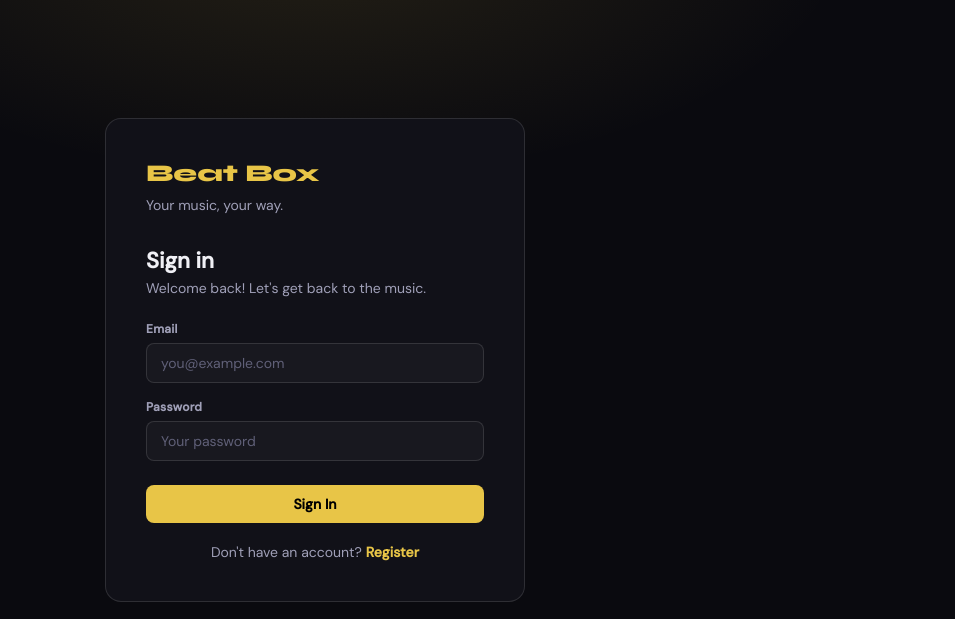
Test: Authentication › shows error for wrong credentials
The image size is (955, 619).
Type "wrong@email.com" into the field with placeholder "you@example.com" at (315, 363), box [146,343,484,383]
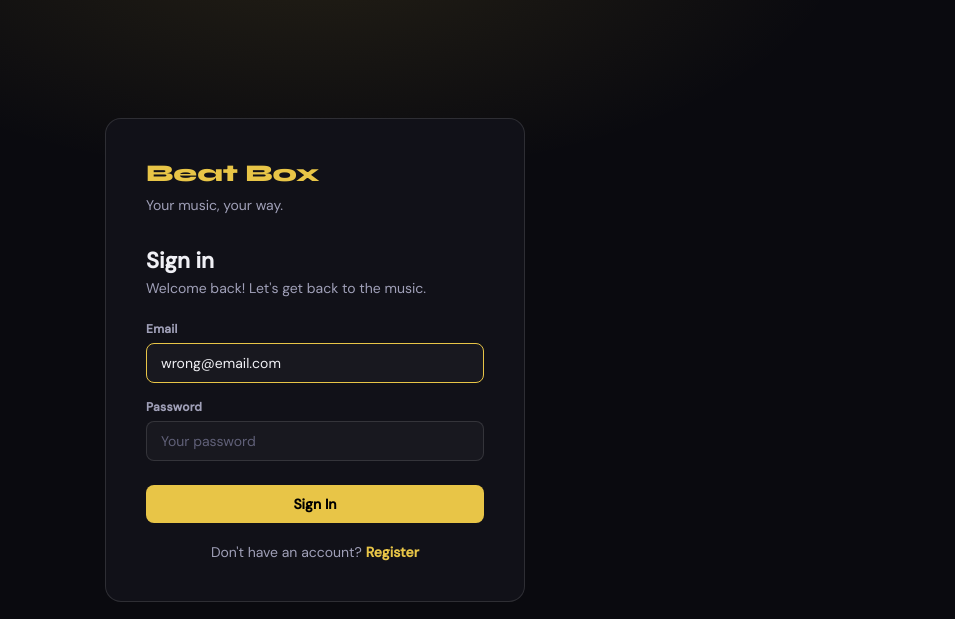
Type "wrongpassword" into the password field with placeholder "Your password" at (315, 441), box [146,421,484,461]
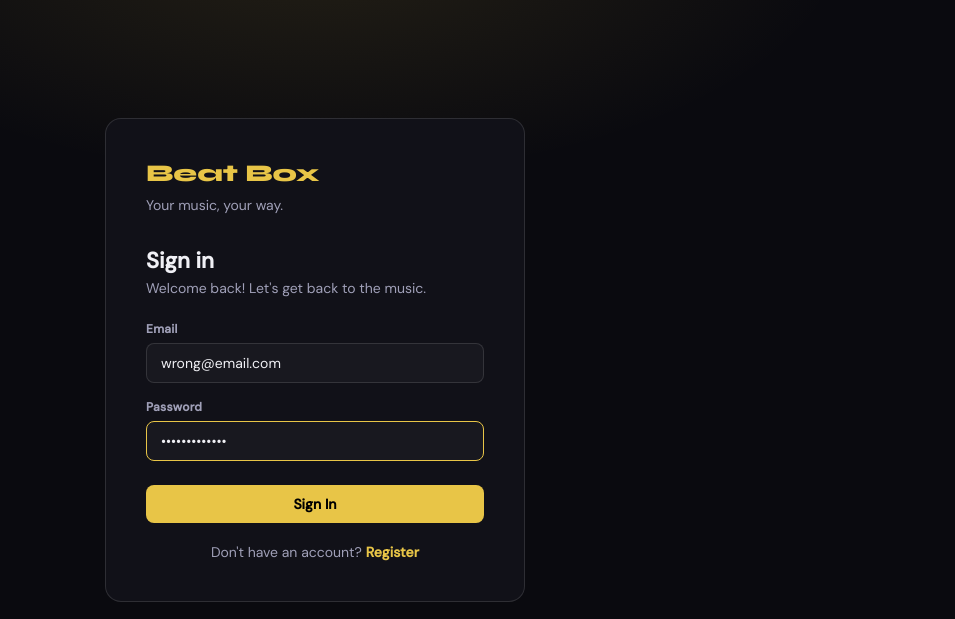
Click the submit button at (315, 504), box [146,485,484,523]
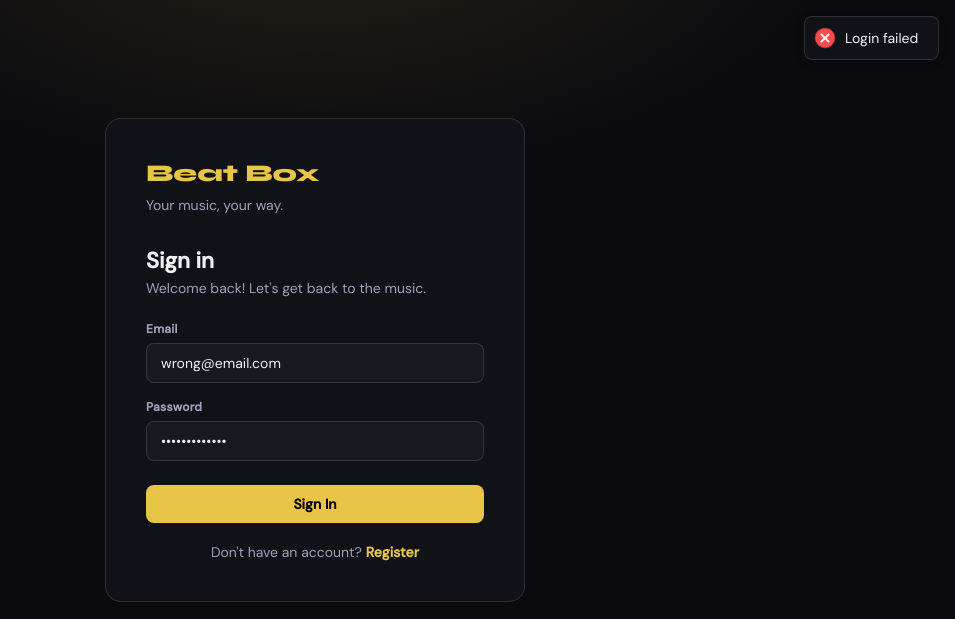
Check: the element with class "go2072408551" is shown, box [804,16,939,60]
